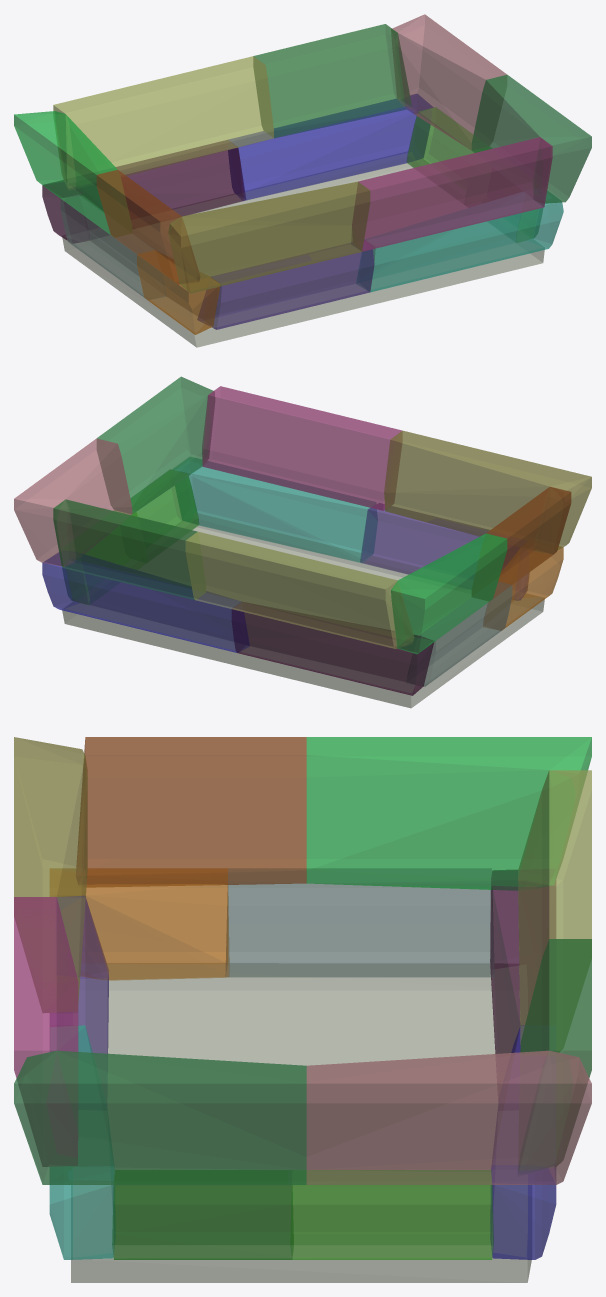
The picture shows the model from 3 angles, top to bottom: view 1: azimuth 30°, elevation 25°; view 2: azimuth 150°, elevation 25°; view 3: azimuth 270°, elevation 25°; orthographic projection. The views are drawn at different scales.
Parts seen in each view (by area): view 1: Shape_IndexedFaceSet, Shape_IndexedFaceSet.002, Shape_IndexedFaceSet.006, Shape_IndexedFaceSet.007, Shape_IndexedFaceSet.003, Shape_IndexedFaceSet.013, Shape_IndexedFaceSet.016, Shape_IndexedFaceSet.004, Shape_IndexedFaceSet.009, Shape_IndexedFaceSet.008, Shape_IndexedFaceSet.012, Shape_IndexedFaceSet.001 (+5 smaller); view 2: Shape_IndexedFaceSet, Shape_IndexedFaceSet.007, Shape_IndexedFaceSet.006, Shape_IndexedFaceSet.002, Shape_IndexedFaceSet.016, Shape_IndexedFaceSet.013, Shape_IndexedFaceSet.009, Shape_IndexedFaceSet.008, Shape_IndexedFaceSet.003, Shape_IndexedFaceSet.004, Shape_IndexedFaceSet.001, Shape_IndexedFaceSet.012 (+5 smaller); view 3: Shape_IndexedFaceSet, Shape_IndexedFaceSet.001, Shape_IndexedFaceSet.008, Shape_IndexedFaceSet.004, Shape_IndexedFaceSet.005, Shape_IndexedFaceSet.010, Shape_IndexedFaceSet.014, Shape_IndexedFaceSet.006, Shape_IndexedFaceSet.011, Shape_IndexedFaceSet.015, Shape_IndexedFaceSet.002, Shape_IndexedFaceSet.007 (+5 smaller).
Part boxes in pixels (x1,y1,x2,y2): Shape_IndexedFaceSet: (62, 152, 544, 347); Shape_IndexedFaceSet.002: (53, 56, 273, 188); Shape_IndexedFaceSet.006: (168, 181, 370, 293); Shape_IndexedFaceSet.007: (352, 137, 552, 251); Shape_IndexedFaceSet.003: (253, 24, 411, 138); Shape_IndexedFaceSet.013: (228, 94, 432, 200); Shape_IndexedFaceSet.016: (356, 191, 563, 292); Shape_IndexedFaceSet.004: (391, 14, 506, 150); Shape_IndexedFaceSet.009: (42, 140, 245, 243); Shape_IndexedFaceSet.008: (471, 74, 591, 203); Shape_IndexedFaceSet.012: (197, 240, 374, 329); Shape_IndexedFaceSet.001: (14, 111, 131, 234); Shape_IndexedFaceSet: (62, 513, 544, 708); Shape_IndexedFaceSet.007: (202, 386, 402, 510); Shape_IndexedFaceSet.006: (384, 430, 591, 553); Shape_IndexedFaceSet.002: (185, 531, 413, 648); Shape_IndexedFaceSet.016: (173, 457, 377, 562); Shape_IndexedFaceSet.013: (42, 553, 249, 652); Shape_IndexedFaceSet.009: (231, 602, 433, 695); Shape_IndexedFaceSet.008: (97, 376, 214, 513); Shape_IndexedFaceSet.003: (53, 499, 205, 600); Shape_IndexedFaceSet.004: (14, 438, 132, 566); Shape_IndexedFaceSet.001: (391, 533, 507, 654); Shape_IndexedFaceSet.012: (360, 503, 528, 600); Shape_IndexedFaceSet: (71, 963, 531, 1282); Shape_IndexedFaceSet.001: (306, 737, 591, 890); Shape_IndexedFaceSet.008: (14, 1050, 306, 1184); Shape_IndexedFaceSet.004: (306, 1050, 591, 1184); Shape_IndexedFaceSet.005: (76, 737, 306, 887); Shape_IndexedFaceSet.010: (225, 868, 494, 977); Shape_IndexedFaceSet.014: (290, 1170, 493, 1259); Shape_IndexedFaceSet.006: (14, 737, 87, 1012); Shape_IndexedFaceSet.011: (50, 868, 229, 980); Shape_IndexedFaceSet.015: (112, 1170, 293, 1259); Shape_IndexedFaceSet.002: (518, 770, 591, 1051); Shape_IndexedFaceSet.007: (14, 897, 78, 1166).
Size of the model in its own units: 0.8016 by 0.244 by 0.5646.
